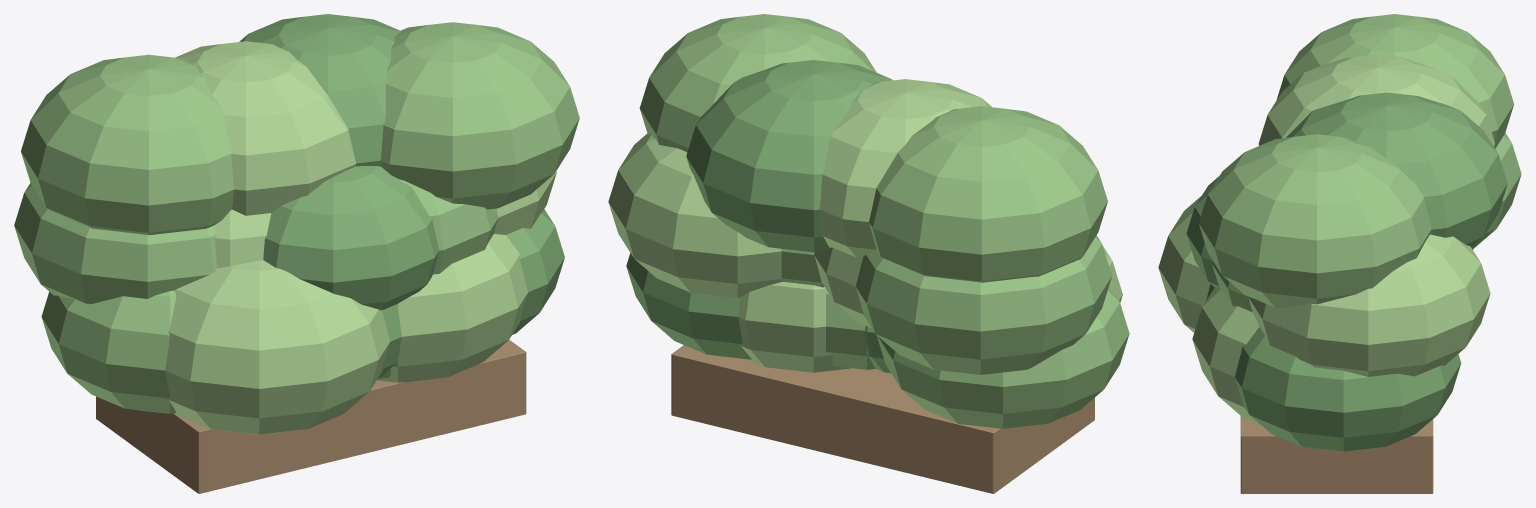
The model's file is hedge_v2.glb.
3 renders of one model, left to right at view 1: azimuth 30°, elevation 25°; view 2: azimuth 150°, elevation 25°; view 3: azimuth 270°, elevation 25°, orthographic. The views are drawn at different scales.
Parts seen in each view (by area): view 1: hedge_v2; view 2: hedge_v2; view 3: hedge_v2.
Part boxes in pixels (x1,y1,x2,y2): hedge_v2: (14,14,579,493); hedge_v2: (608,14,1129,493); hedge_v2: (1158,14,1521,493).
Size of the model in its own units: 0.8247 by 0.5734 by 0.5661.
